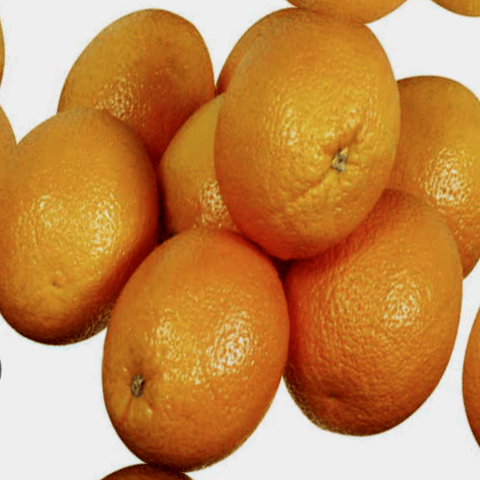orange: (241, 155, 480, 462), (66, 204, 314, 480), (186, 0, 437, 270), (0, 77, 177, 359)
